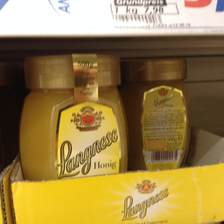honey: (18, 52, 129, 177), (121, 58, 194, 173)
